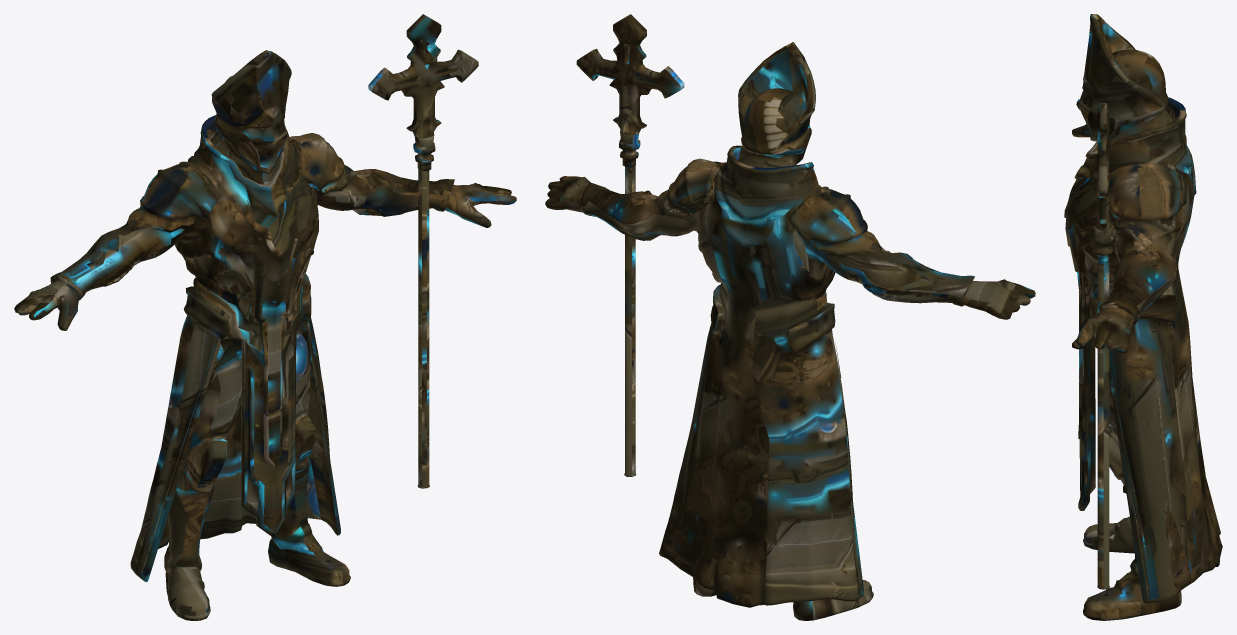
The model's file is BishopUnit.fbx.
The picture shows the model from 3 angles, left to right: view 1: azimuth 30°, elevation 25°; view 2: azimuth 150°, elevation 25°; view 3: azimuth 270°, elevation 25°; orthographic projection. The views are drawn at different scales.
Visible parts, largest first — view 1: bishop; view 2: bishop; view 3: bishop.
Boxes of the visible parts, x1,y1,x2,y2 form: bishop: (14,14,516,620); bishop: (545,14,1035,620); bishop: (1064,14,1222,620).
Size of the model in its own units: 178 by 190 by 48.04.
